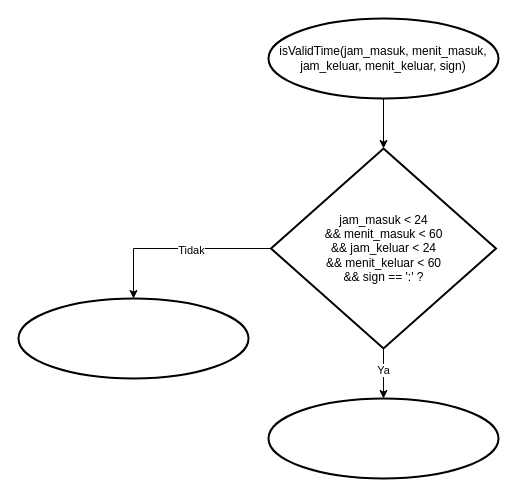
This 516x496 diagram has some shape labels left out. The centre of each missing label's shape, as x and y in pixels:
"return 0" goes at [133,338].
"return 1" goes at [383,438].
